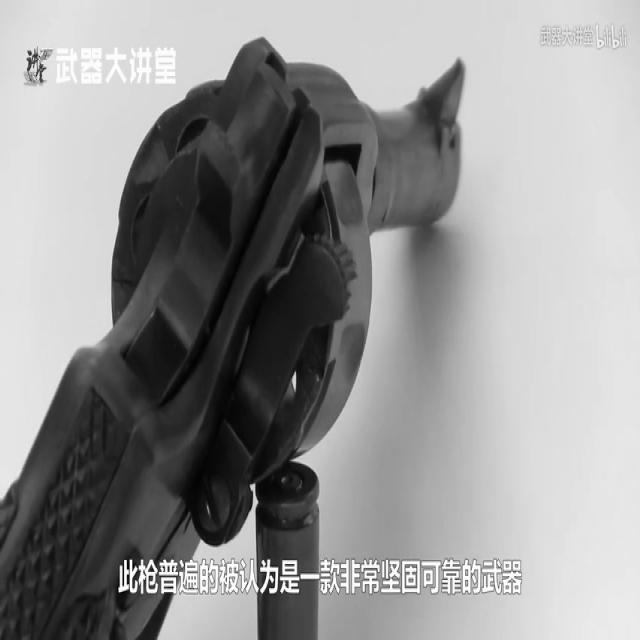Short-Gun: (0, 0, 531, 640)
